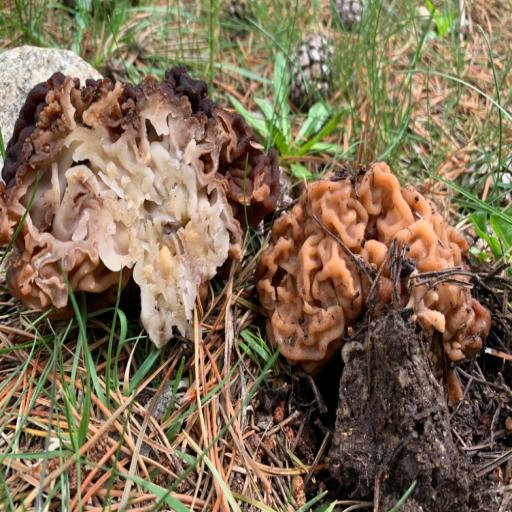False Morel: (0, 43, 288, 363), (249, 154, 498, 384)
